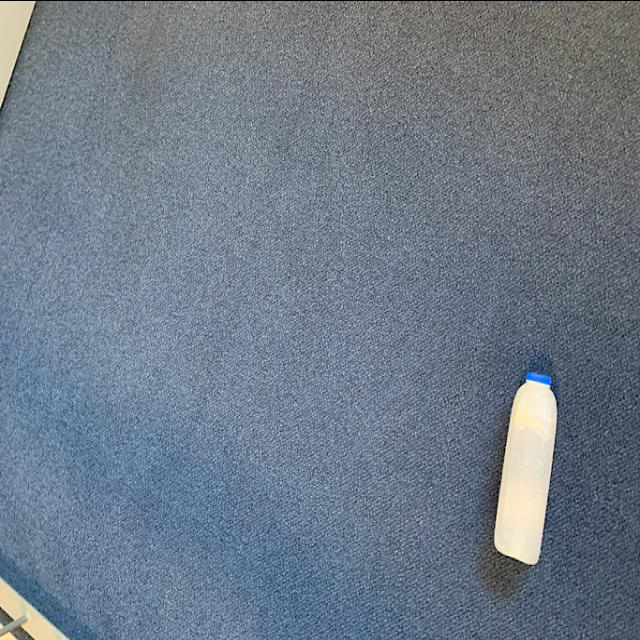HDPEM: (493, 367, 561, 562)
